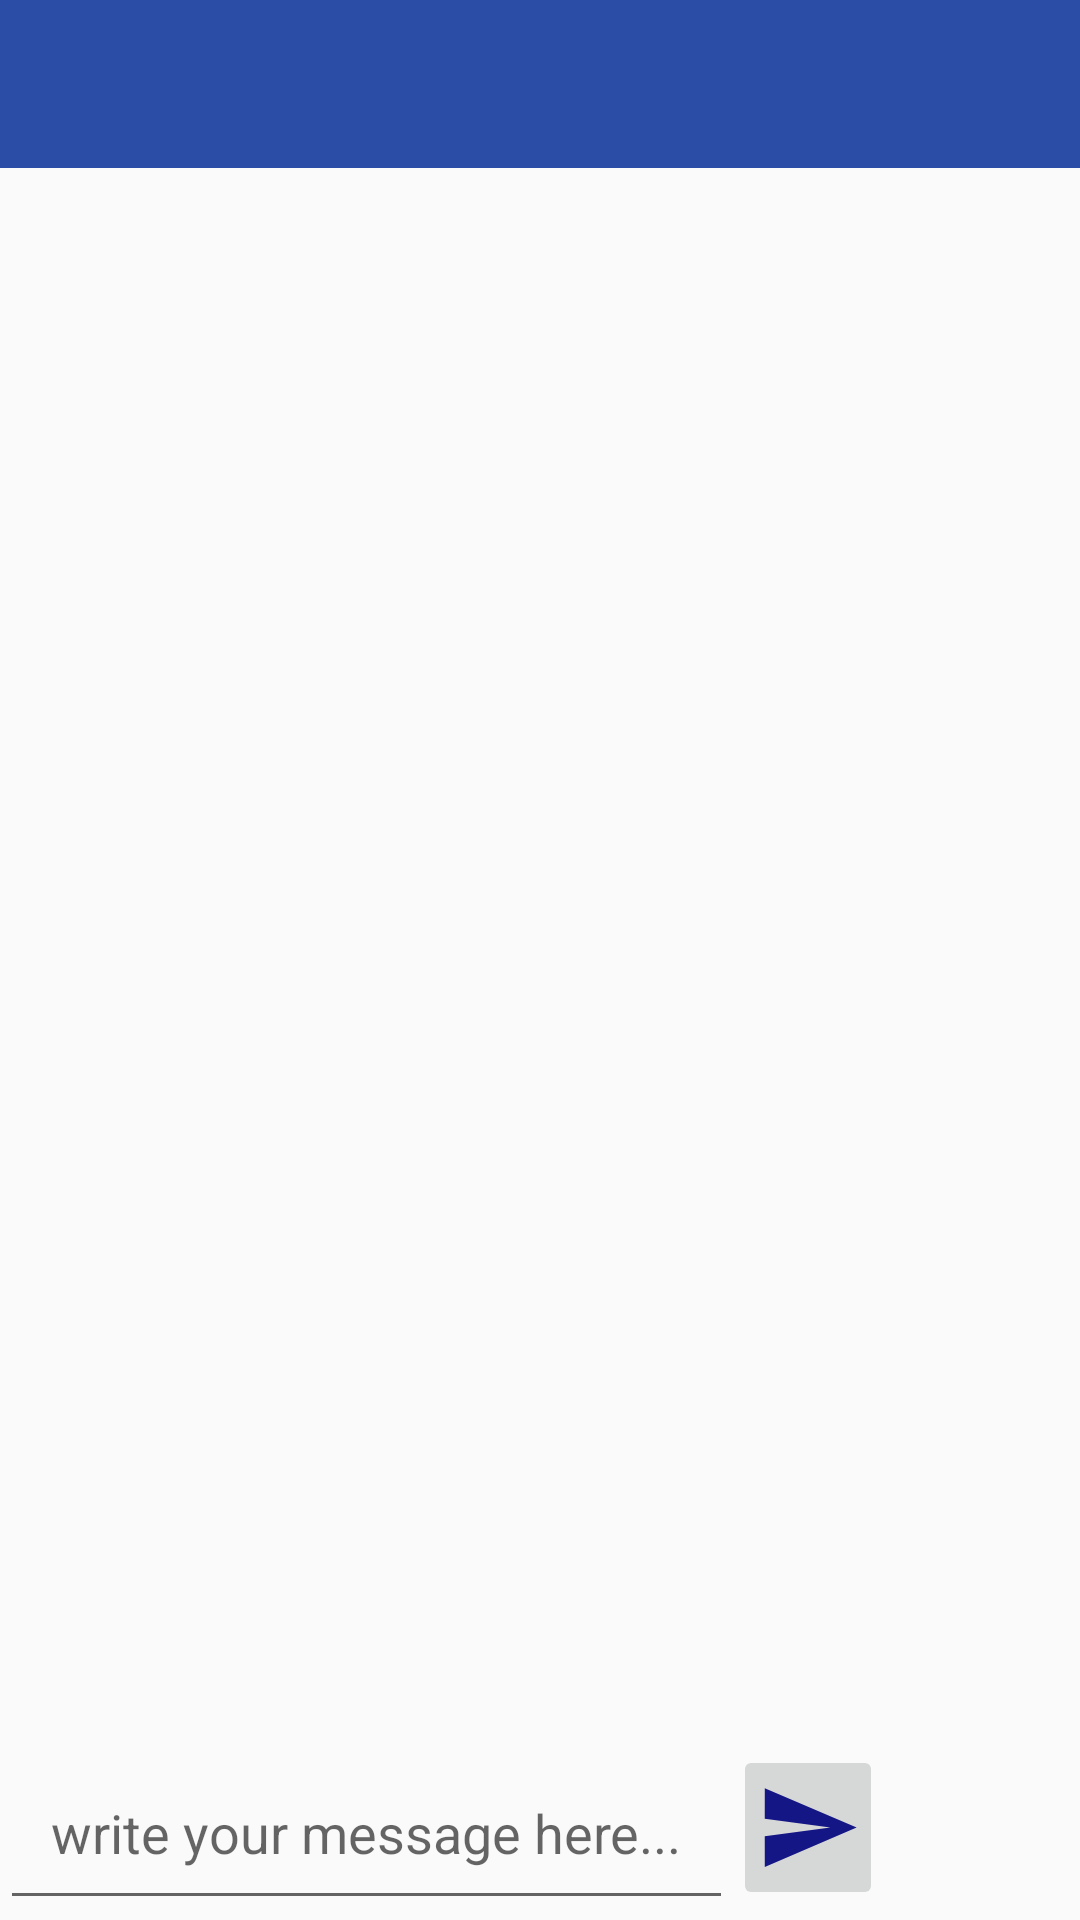

Locate icon controls on the screen. Image size 1080×1920, boxes as [left=x1, top=y1, right=x2, bottom=y2].
send: [left=745, top=1763, right=871, bottom=1892]
